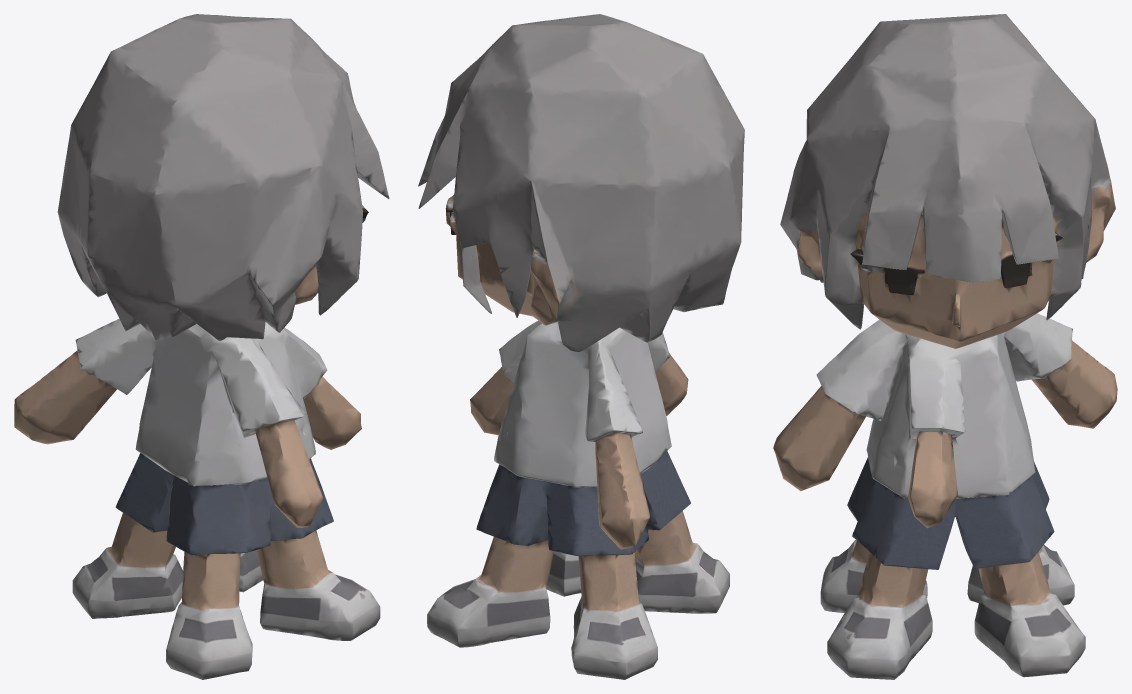
The model's file is dressed.glb.
3 views of the same model, side by side, from view 1: azimuth 30°, elevation 25°; view 2: azimuth 150°, elevation 25°; view 3: azimuth 270°, elevation 25° (orthographic).
Parts seen in each view (by area): view 1: tripo_node_a7377958-a35a-4f4a-91d4-bec575296813; view 2: tripo_node_a7377958-a35a-4f4a-91d4-bec575296813; view 3: tripo_node_a7377958-a35a-4f4a-91d4-bec575296813.
Part boxes in pixels (<box>): tripo_node_a7377958-a35a-4f4a-91d4-bec575296813: <box>14,14,389,679</box>; tripo_node_a7377958-a35a-4f4a-91d4-bec575296813: <box>418,14,744,679</box>; tripo_node_a7377958-a35a-4f4a-91d4-bec575296813: <box>773,14,1117,679</box>.
Bounding box in the file's own units: 0.5136 × 1 × 0.5168.
Materials: 1 (1 with a texture image).
